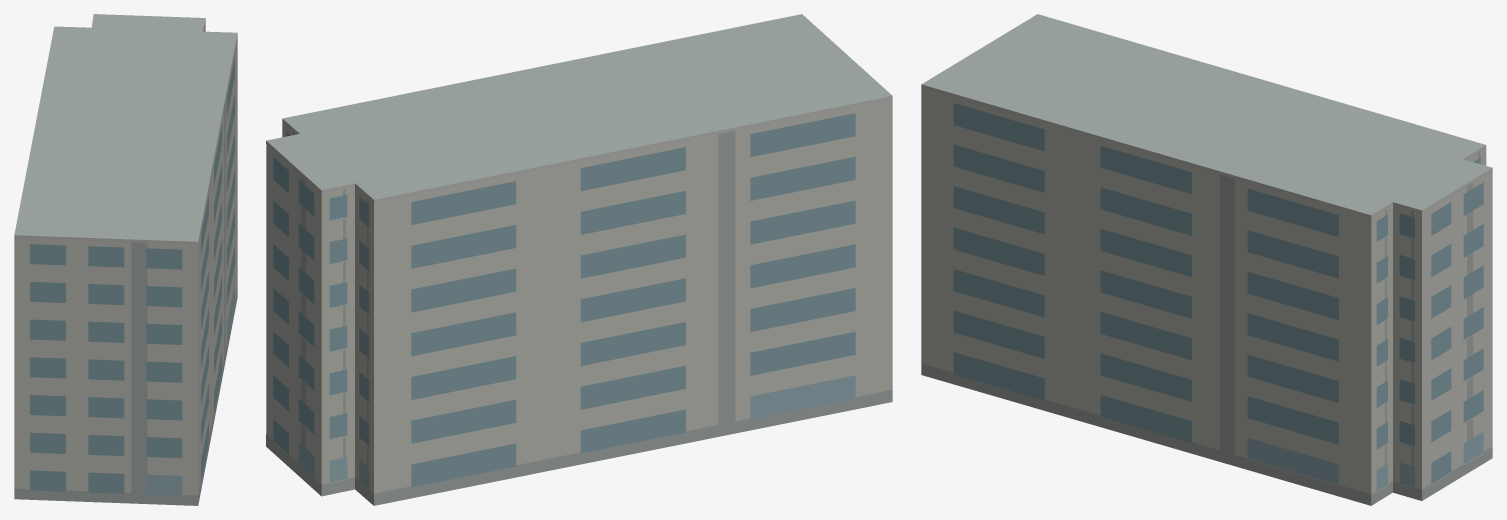
Rendered from survey-upis-32920252.glb.
3 renders of one model, left to right at view 1: azimuth 30°, elevation 25°; view 2: azimuth 150°, elevation 25°; view 3: azimuth 270°, elevation 25°, orthographic. The views are drawn at different scales.
Parts seen in each view (by area): view 1: survey-upis-32920252.tmp; view 2: survey-upis-32920252.tmp; view 3: survey-upis-32920252.tmp.
Boxes of the visible parts, bbox=[...] form: survey-upis-32920252.tmp: bbox=[14, 14, 237, 505]; survey-upis-32920252.tmp: bbox=[266, 14, 892, 505]; survey-upis-32920252.tmp: bbox=[921, 14, 1492, 505].
Bounding box in the file's own units: 31.74 × 21.35 × 38.05.
